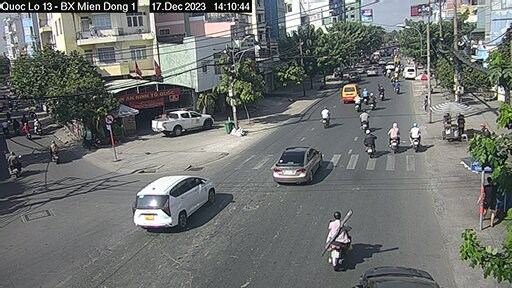car: (131, 173, 217, 232), (272, 142, 325, 187), (149, 108, 215, 138), (340, 82, 361, 102), (403, 66, 421, 83), (344, 69, 362, 83)
motorbike: (323, 209, 355, 269), (363, 130, 380, 159), (315, 106, 332, 129), (389, 122, 400, 154), (410, 123, 422, 151), (360, 109, 371, 127)
